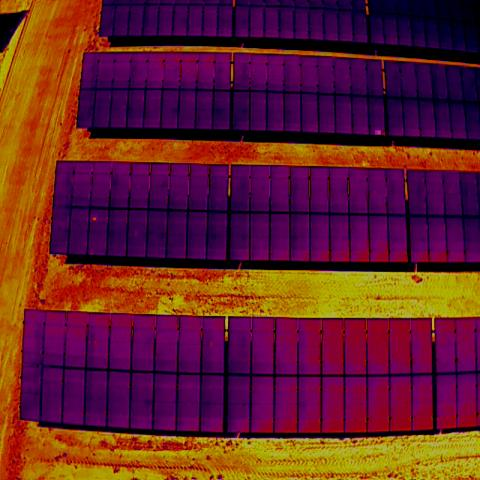fault: (90, 214, 98, 223), (375, 130, 381, 135), (381, 130, 386, 136)
